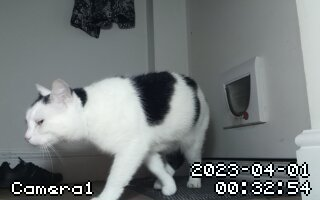bad: (21, 72, 211, 200)
